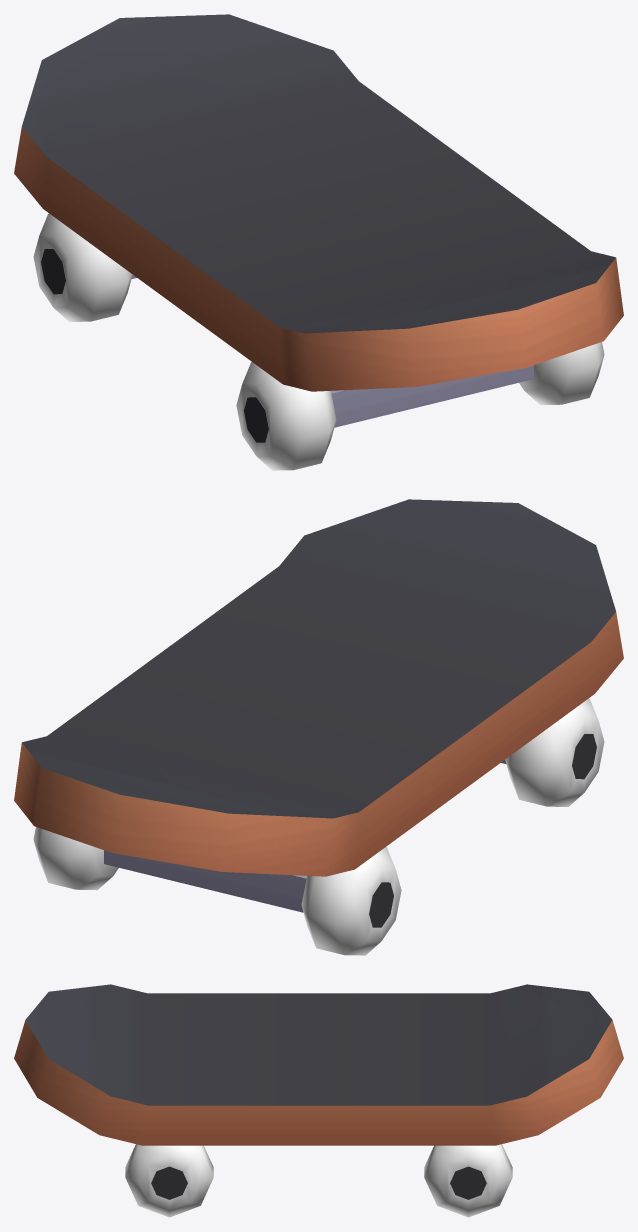
The picture shows the model from 3 angles, top to bottom: view 1: azimuth 30°, elevation 25°; view 2: azimuth 150°, elevation 25°; view 3: azimuth 270°, elevation 25°; orthographic projection. The views are drawn at different scales.
Visible parts, largest first — view 1: skateboard; view 2: skateboard; view 3: skateboard.
Boxes of the visible parts, box(x1,y1,x2,y2) form: skateboard: box(14, 14, 623, 470); skateboard: box(14, 499, 623, 955); skateboard: box(14, 984, 623, 1217).
Bounding box in the file's own units: 0.366 × 0.2093 × 0.8.
1 material, 1 textured.
